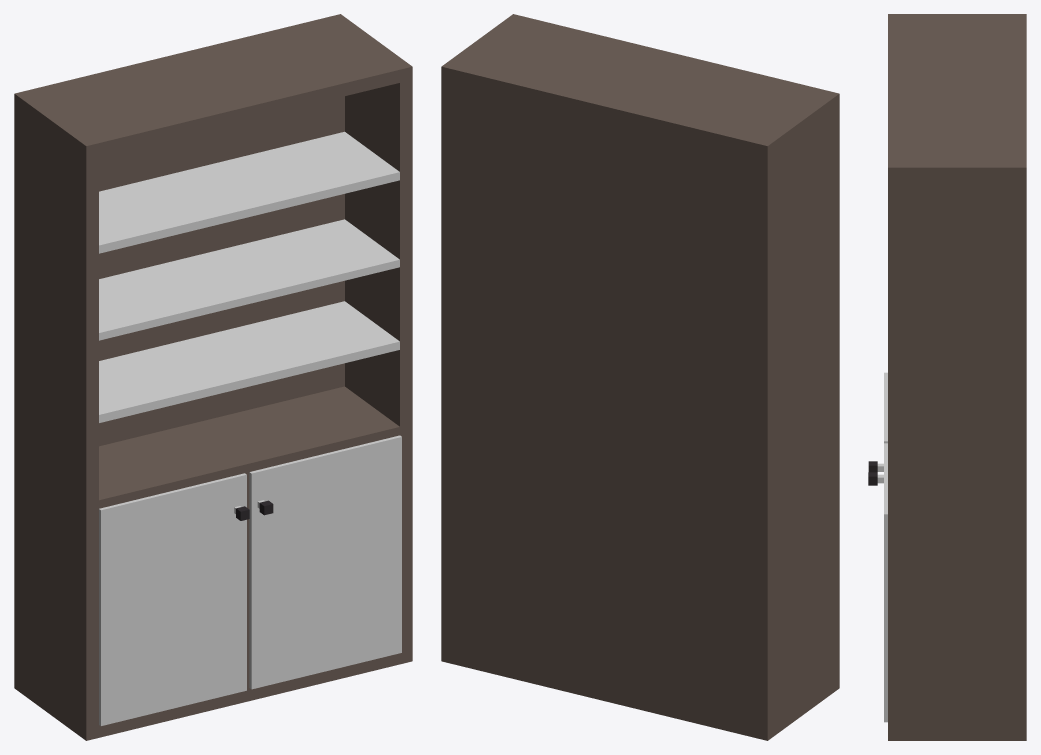
File: estanteria.fbx
3 renders of one model, left to right at view 1: azimuth 30°, elevation 25°; view 2: azimuth 150°, elevation 25°; view 3: azimuth 270°, elevation 25°, orthographic. The views are drawn at different scales.
Parts seen in each view (by area): view 1: estanteria; view 2: estanteria; view 3: estanteria.
Boxes of the visible parts, <box> form: estanteria: <box>14,14,412,740</box>; estanteria: <box>441,14,839,740</box>; estanteria: <box>868,14,1026,740</box>.
Bounding box in the file's own units: 524 × 913 × 228.
